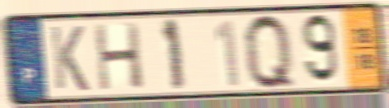1: (158, 16, 188, 94), (214, 18, 241, 89)
9: (298, 13, 341, 88)
H: (91, 20, 147, 93)
K: (47, 24, 91, 94)
Q: (241, 10, 300, 93)
